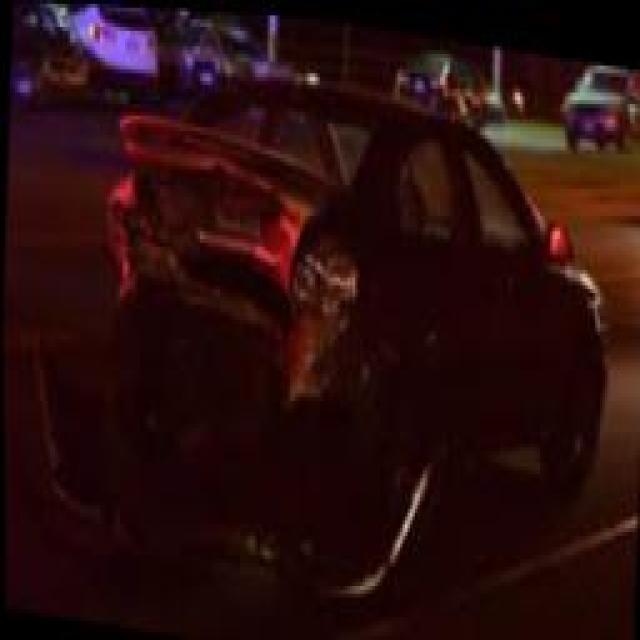Bumper: (40, 286, 422, 589)
Dickey: (122, 110, 362, 308)
Light: (289, 239, 359, 313), (103, 207, 143, 296)
